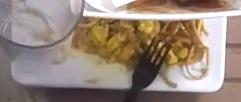asian_noodles: (73, 18, 208, 68)
